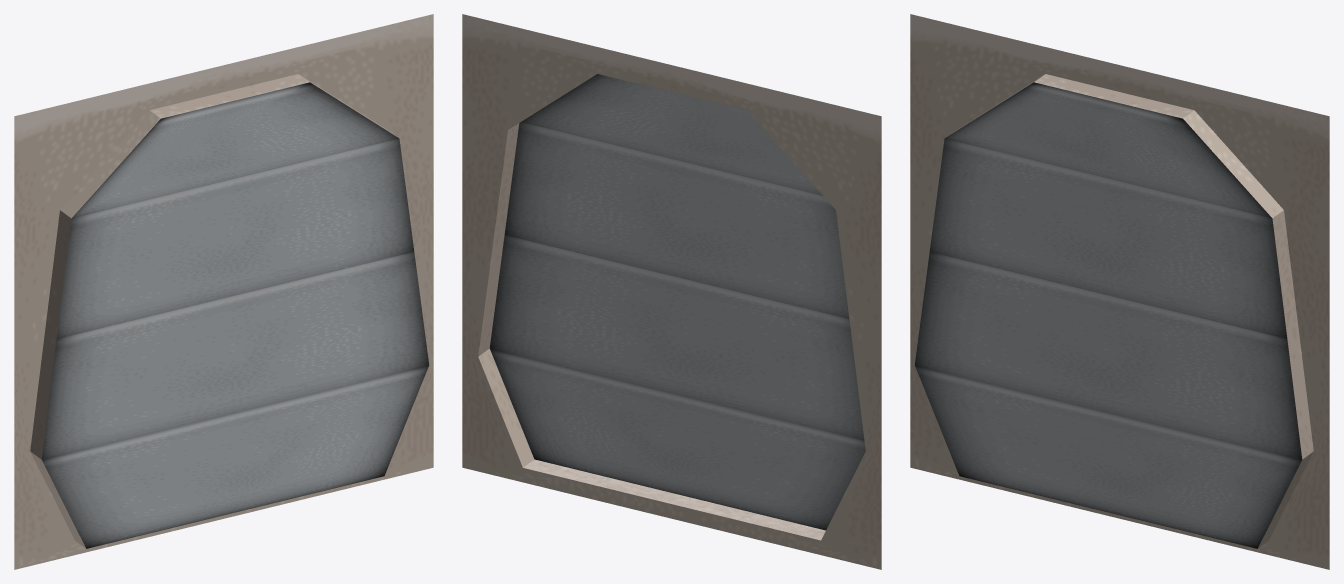
File: galaxyCorridorEnd.glb
3 renders of one model, left to right at view 1: azimuth 30°, elevation 25°; view 2: azimuth 150°, elevation 25°; view 3: azimuth 330°, elevation 25°, orthographic.
Parts seen in each view (by area): view 1: End; view 2: End; view 3: End.
Part boxes in pixels (<box>): End: <box>14,14,433,569</box>; End: <box>462,14,881,569</box>; End: <box>910,14,1329,569</box>.
Size of the model in its own units: 3 by 3.1 by 0.1421.
Materials: 1 (1 with a texture image).
